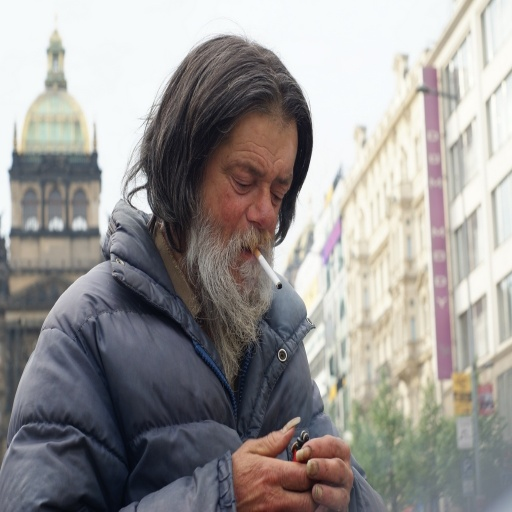hand: (216, 420, 323, 498), (296, 433, 354, 510)
